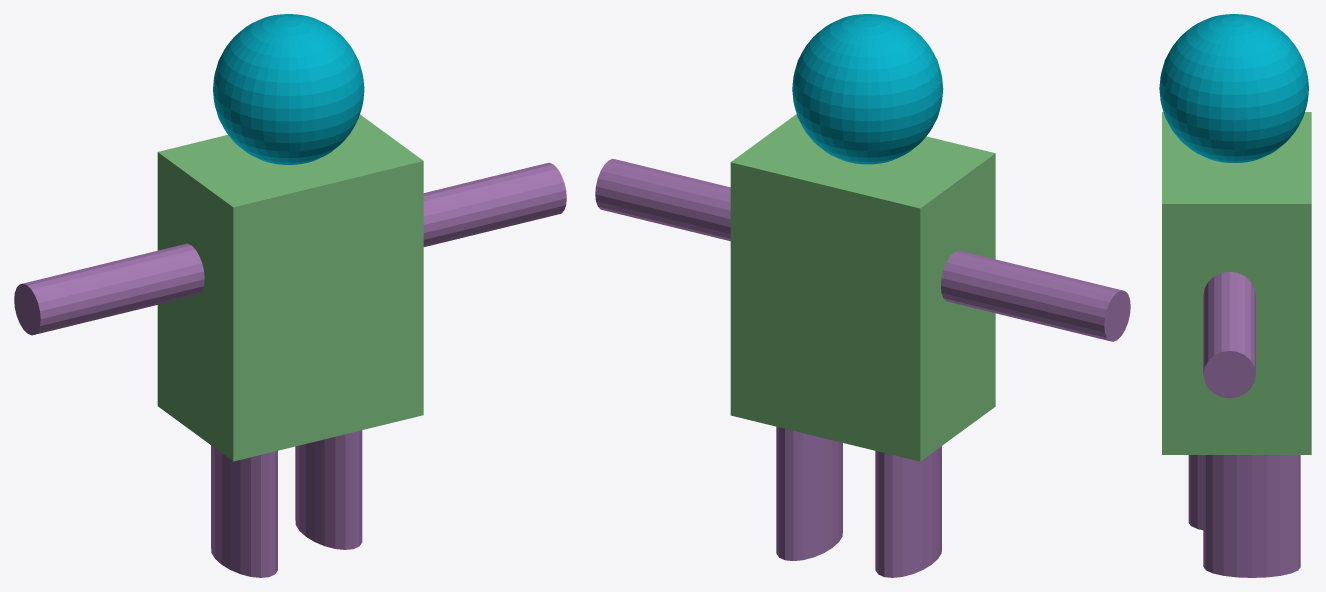
The model's file is Funky Vihelmo.glb.
3 views of the same model, side by side, from view 1: azimuth 30°, elevation 25°; view 2: azimuth 150°, elevation 25°; view 3: azimuth 270°, elevation 25° (orthographic).
Parts seen in each view (by area): view 1: Mesh_Mesh_head_geo.001_lambert2SG.001; view 2: Mesh_Mesh_head_geo.001_lambert2SG.001; view 3: Mesh_Mesh_head_geo.001_lambert2SG.001.
Boxes of the visible parts, bbox=[...] form: Mesh_Mesh_head_geo.001_lambert2SG.001: bbox=[14, 14, 566, 577]; Mesh_Mesh_head_geo.001_lambert2SG.001: bbox=[595, 14, 1130, 577]; Mesh_Mesh_head_geo.001_lambert2SG.001: bbox=[1159, 14, 1311, 577].
Size of the model in its own units: 79 by 77 by 20.34.
